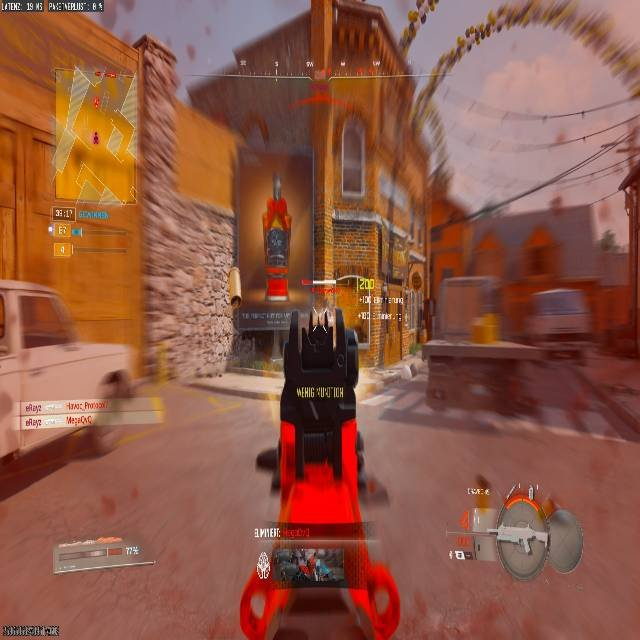player: (263, 195, 292, 265)
